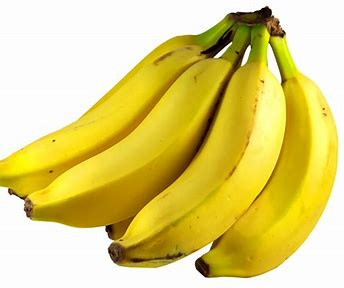inorganic: (2, 7, 342, 283)
